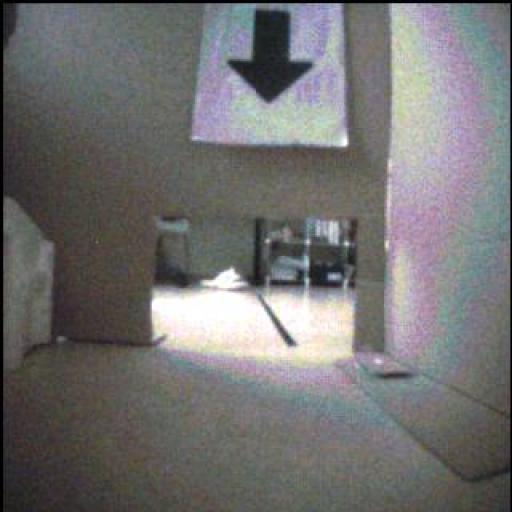arrow: (230, 11, 313, 104)
